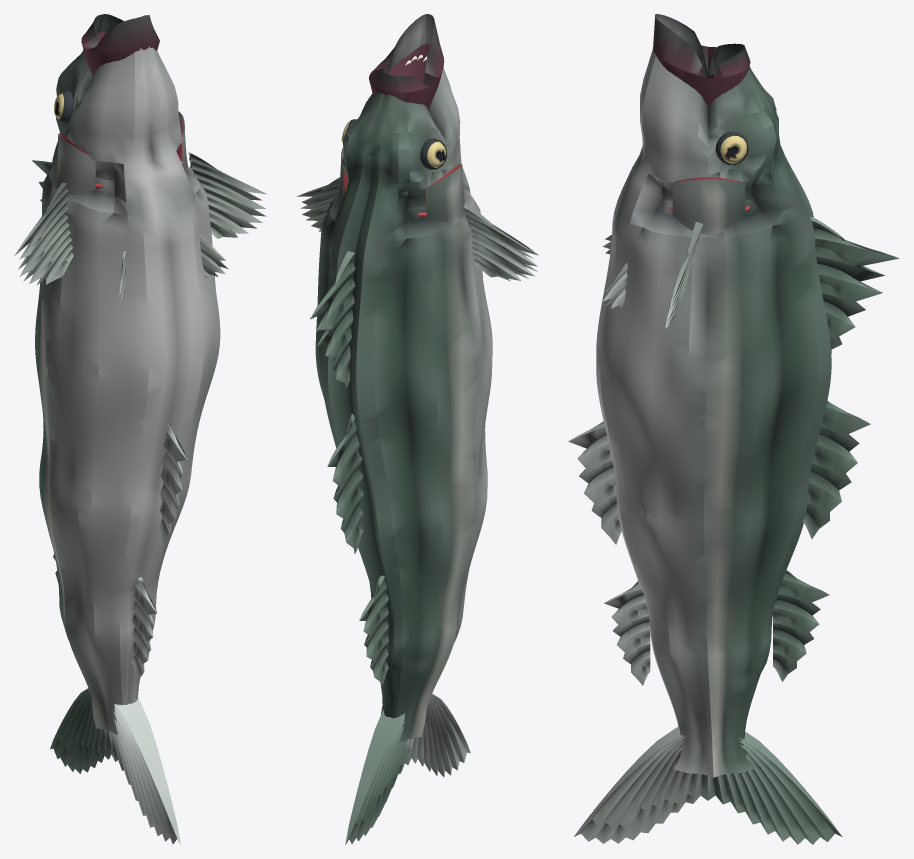
File: fish_pollock.glb
3 views of the same model, side by side, from view 1: azimuth 30°, elevation 25°; view 2: azimuth 150°, elevation 25°; view 3: azimuth 270°, elevation 25° (orthographic). The views are drawn at different scales.
Visible parts, largest first — view 1: Fish_pollock; view 2: Fish_pollock; view 3: Fish_pollock.
Boxes of the visible parts, bbox=[...] form: Fish_pollock: bbox=[14, 14, 266, 844]; Fish_pollock: bbox=[296, 14, 539, 844]; Fish_pollock: bbox=[568, 14, 899, 844].
Size of the model in its own units: 0.3513 by 1.07 by 0.3859.
